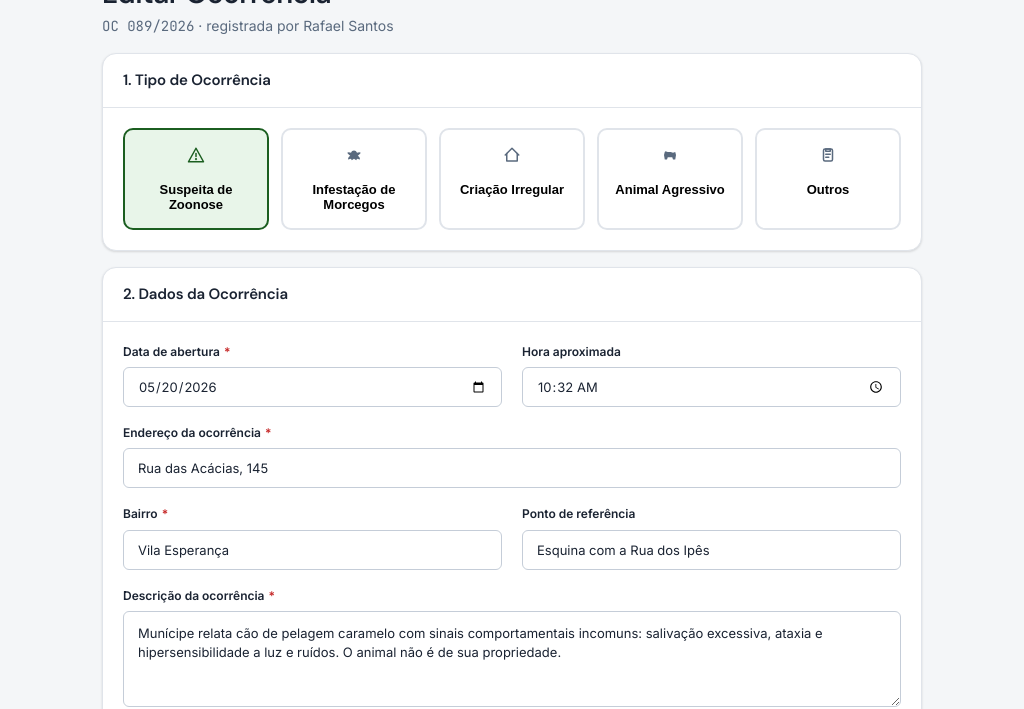
Test case: EditarOcorrencia › PUT sem mudança nos blocos: manda as flags e omite denunciante e denunciado (D10)
Replace the text in the field labelled "Endereço da ocorrência *" with "Rua Nova, 1" at (512,468), box [123, 448, 901, 488]
(page scrolled)
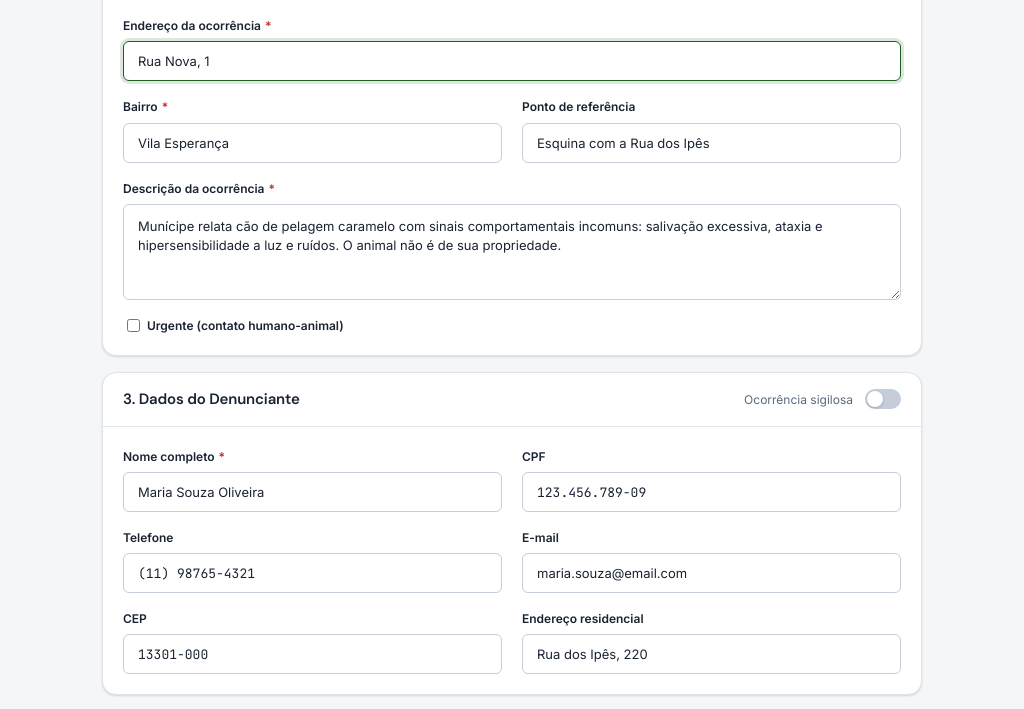
Click the checkbox labelled "Urgente (contato humano-animal)" at (134,325), box [127, 319, 140, 332]
(page scrolled)
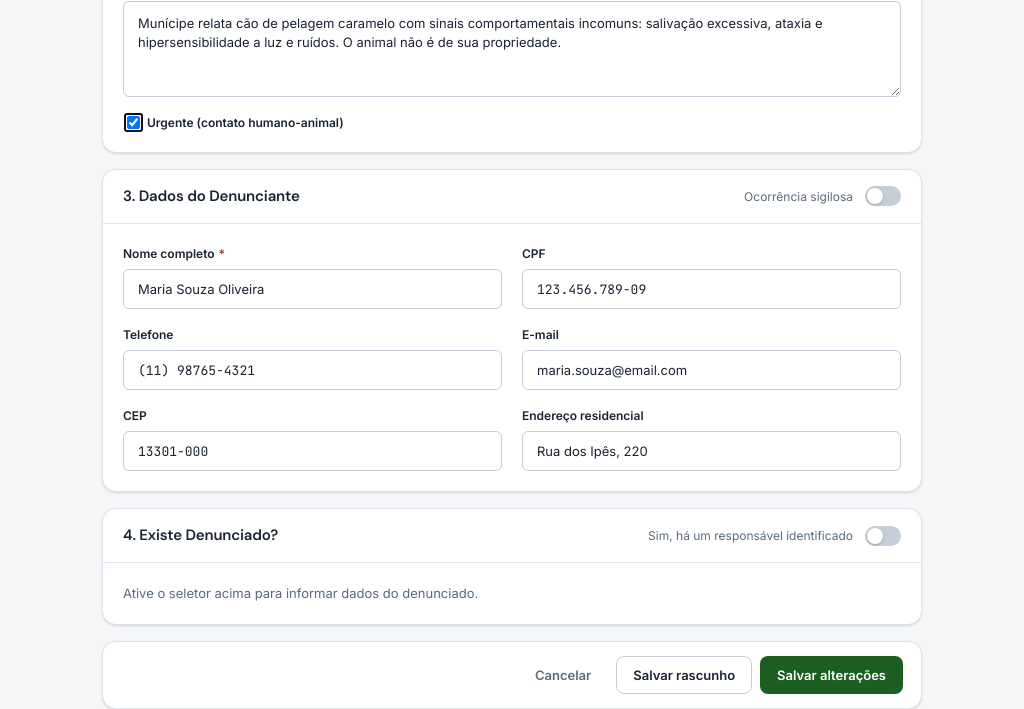
Click the button "Salvar alterações" at (832,675), box [760, 656, 903, 694]
(page scrolled)
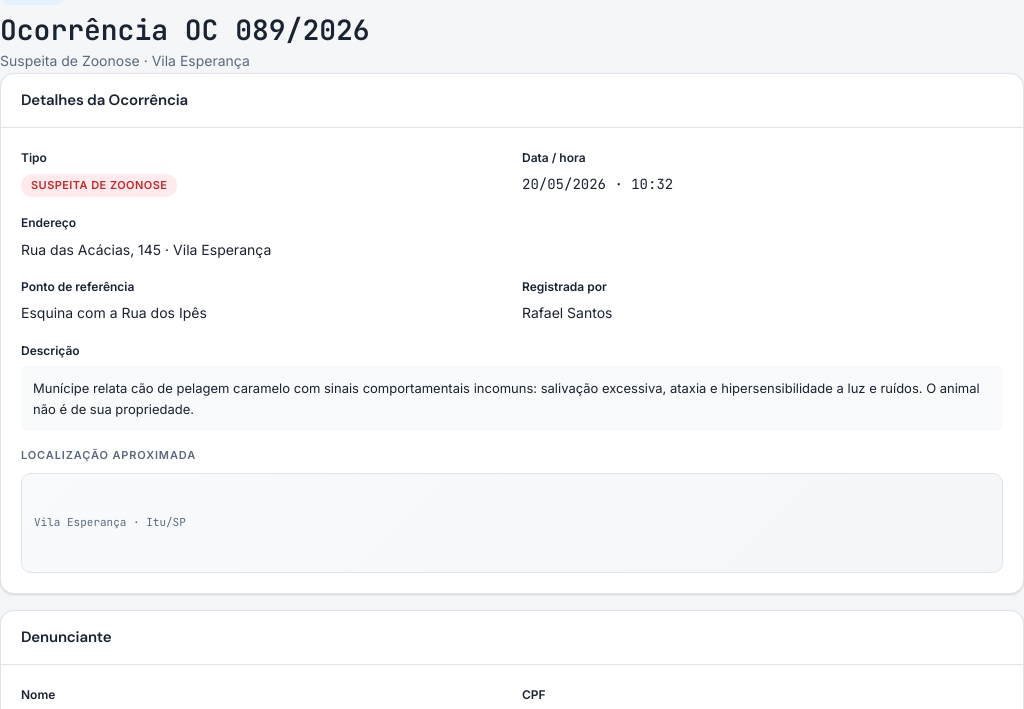
Now the heading "Ocorrência OC 089/2026" is shown, box [0, 13, 370, 46]
